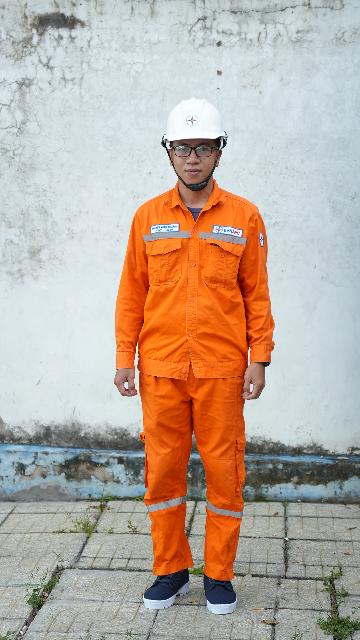helmet: (159, 92, 234, 151)
shoes: (142, 549, 204, 616), (196, 561, 241, 620)
